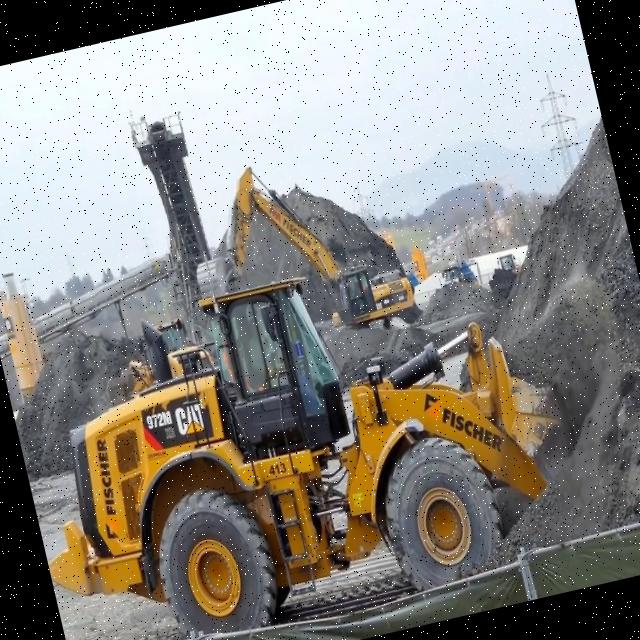Excavator: (172, 132, 421, 368)
Loader: (0, 217, 589, 640)
